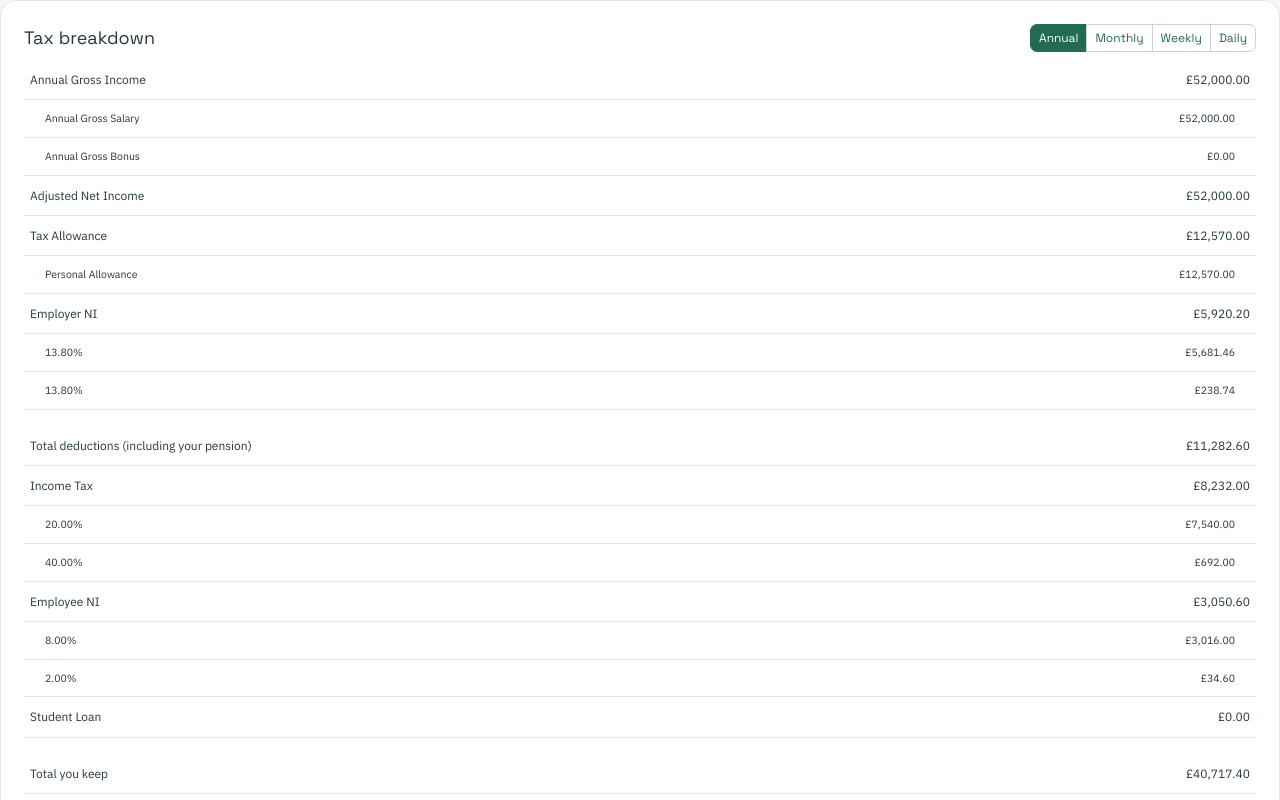
Test: TaxBreakdown › switches to monthly view when Monthly is clicked
Step 1. Click the button "Monthly" → coordinates (1120, 38), box x1=1086 y1=24 x2=1153 y2=52
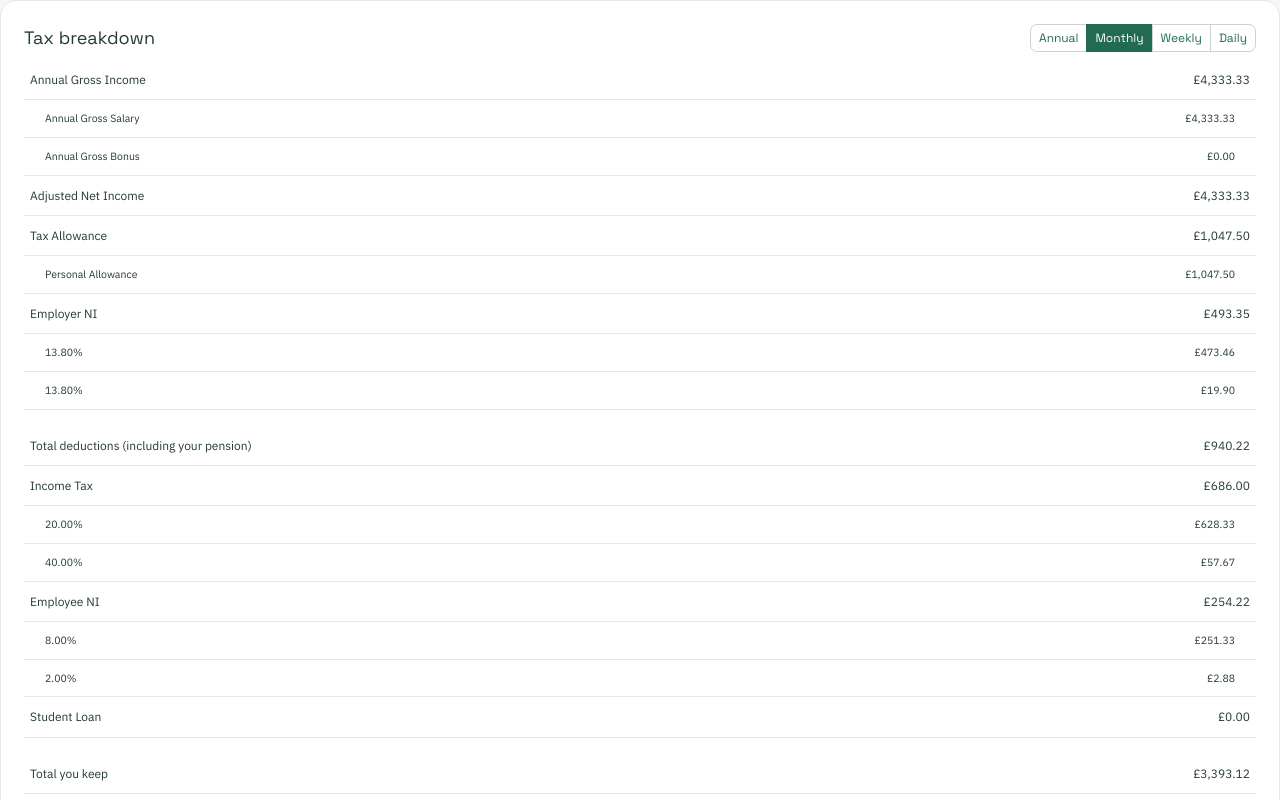
Result: the text "£4,333.33" in the row of "Annual Gross Income" is shown at x1=1193 y1=72 x2=1250 y2=87
